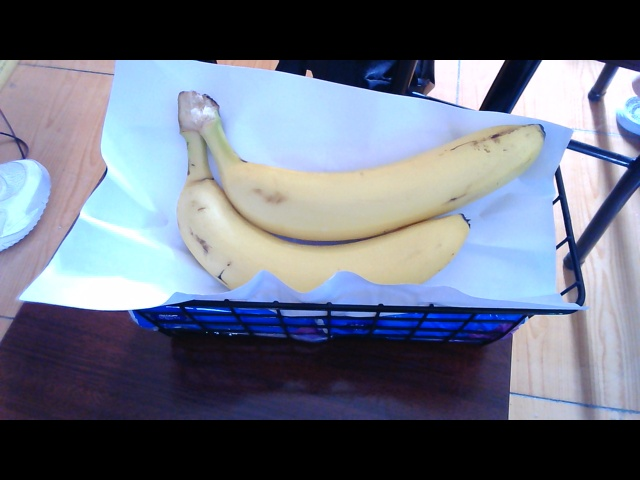banana: (162, 97, 539, 293)
